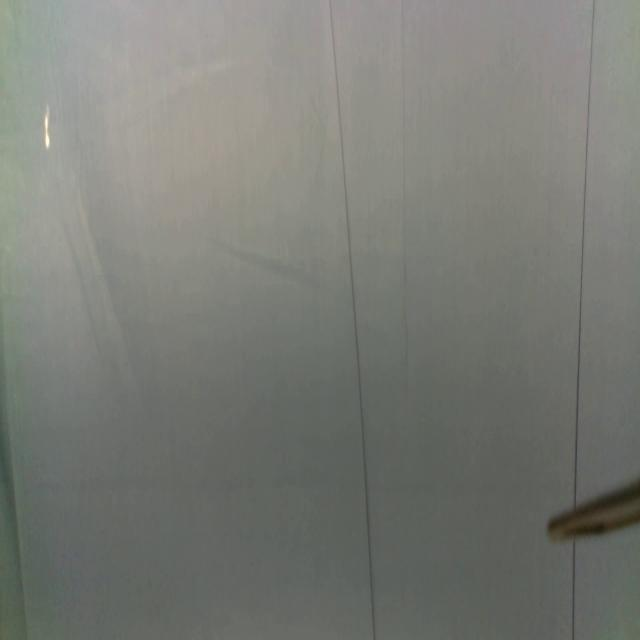crease: (329, 2, 377, 640), (574, 0, 597, 500), (400, 3, 409, 375), (571, 540, 578, 640)
hole: (43, 105, 51, 152)
